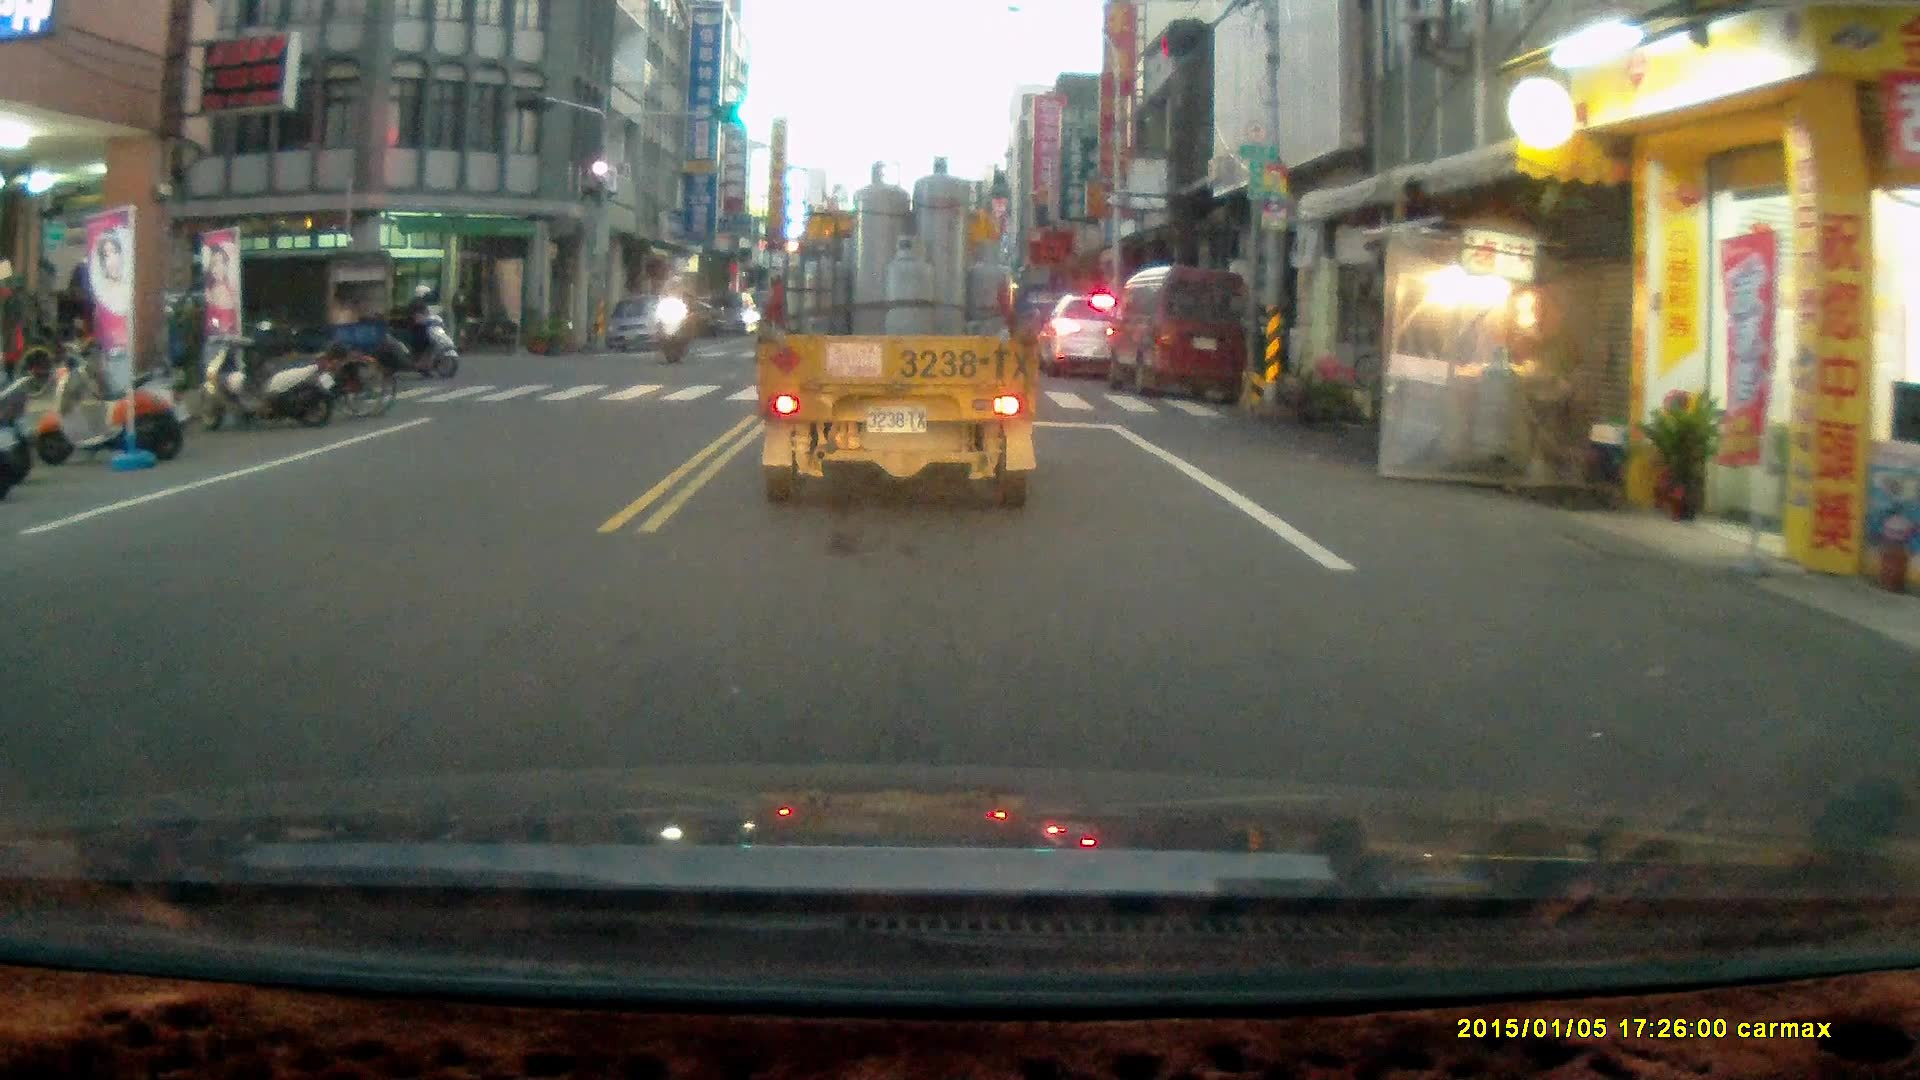pedestrian: (60, 261, 96, 370), (447, 277, 472, 355)
rider: (384, 284, 461, 384), (649, 270, 697, 366)
vehicle: (753, 163, 1032, 514), (133, 247, 399, 394), (1104, 265, 1252, 406), (1045, 292, 1131, 379), (607, 293, 681, 353), (695, 285, 758, 336)
